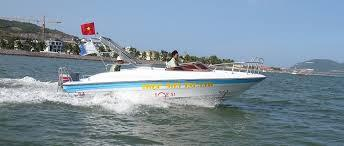Ship: (59, 37, 266, 107)
